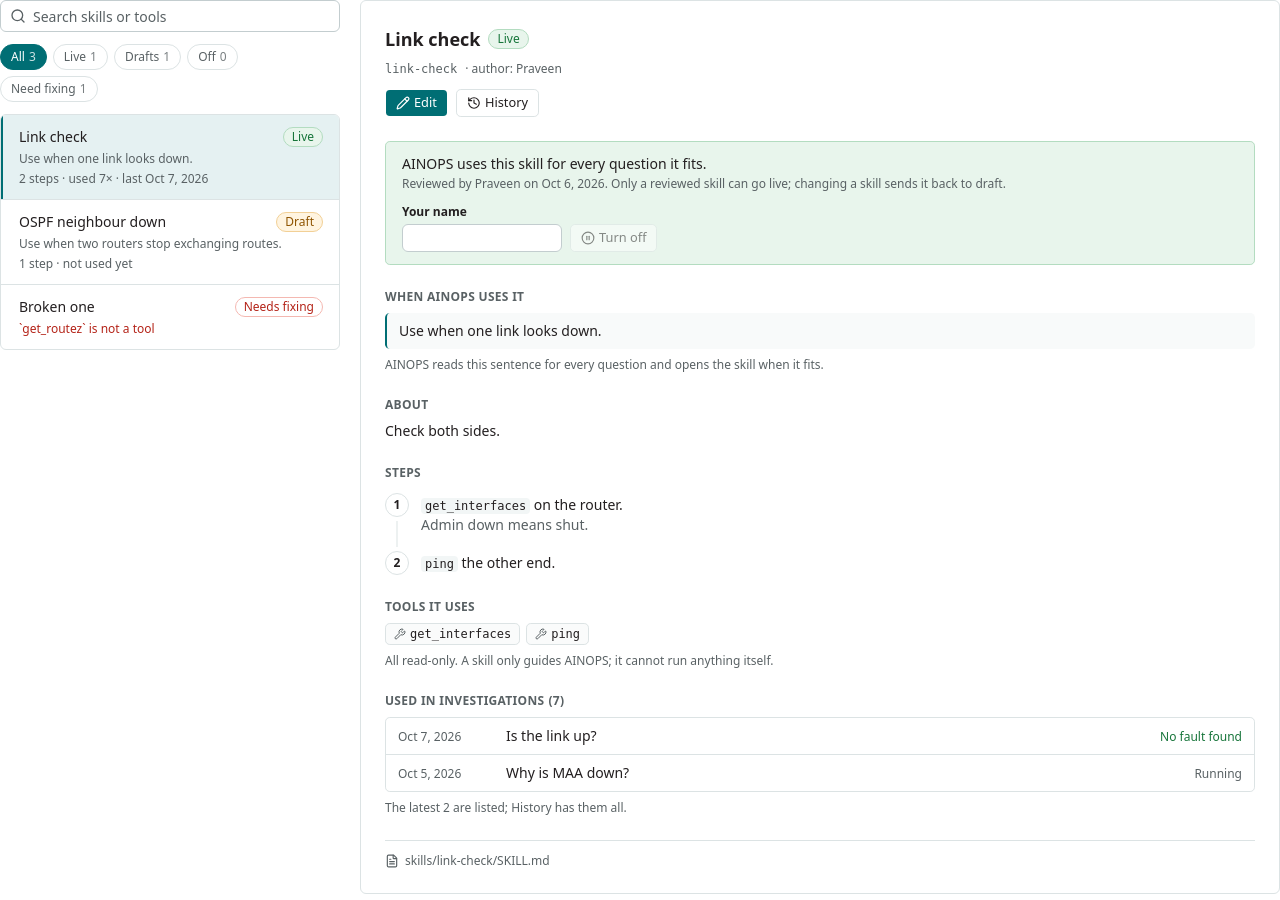
Test: editing and history from the Skills page › says when a skill has no earlier versions
The image size is (1280, 900).
Click the button "History" at (497, 103), box [456,89,539,117]
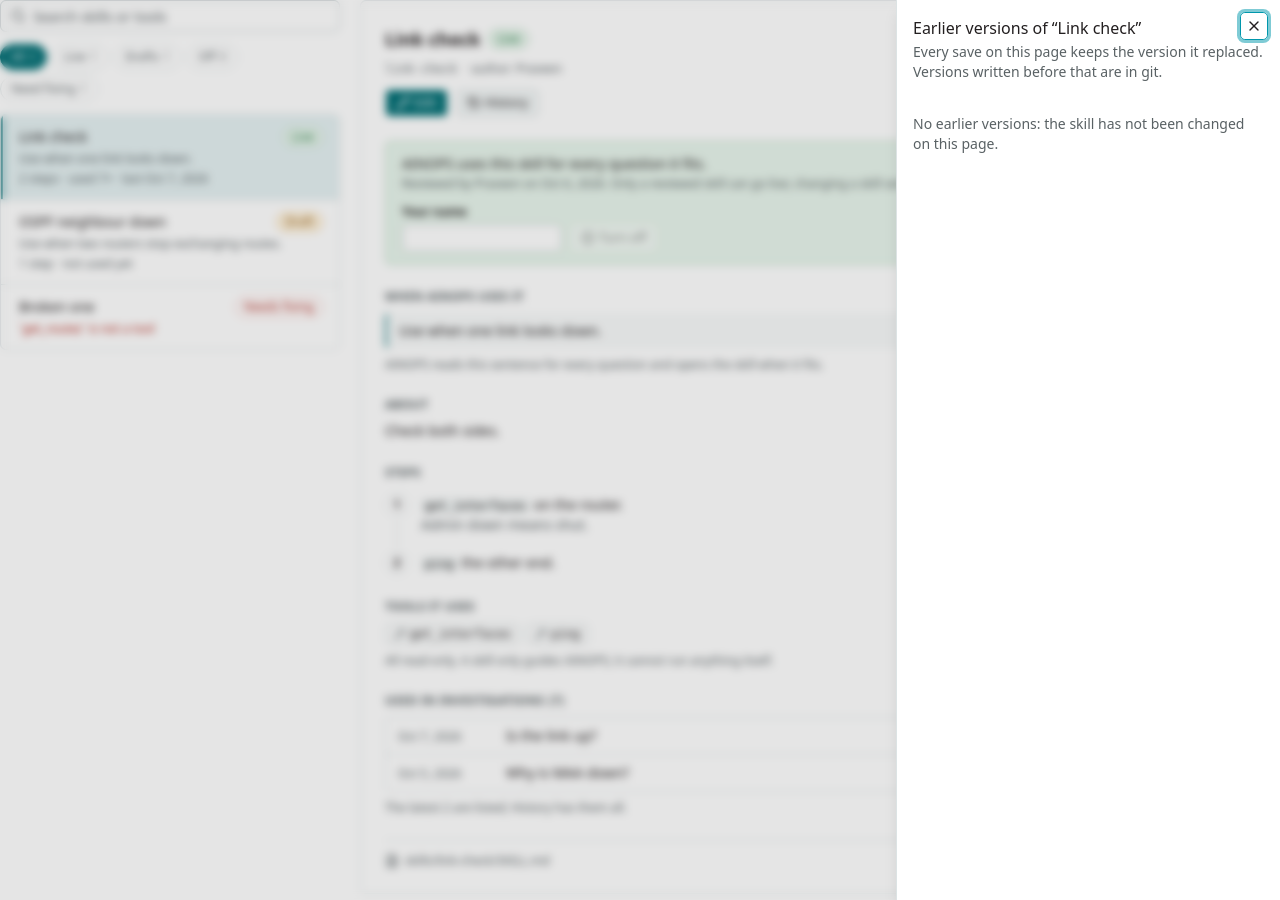
Now the text "No earlier versions" is shown, box [913,114,1244,153]
